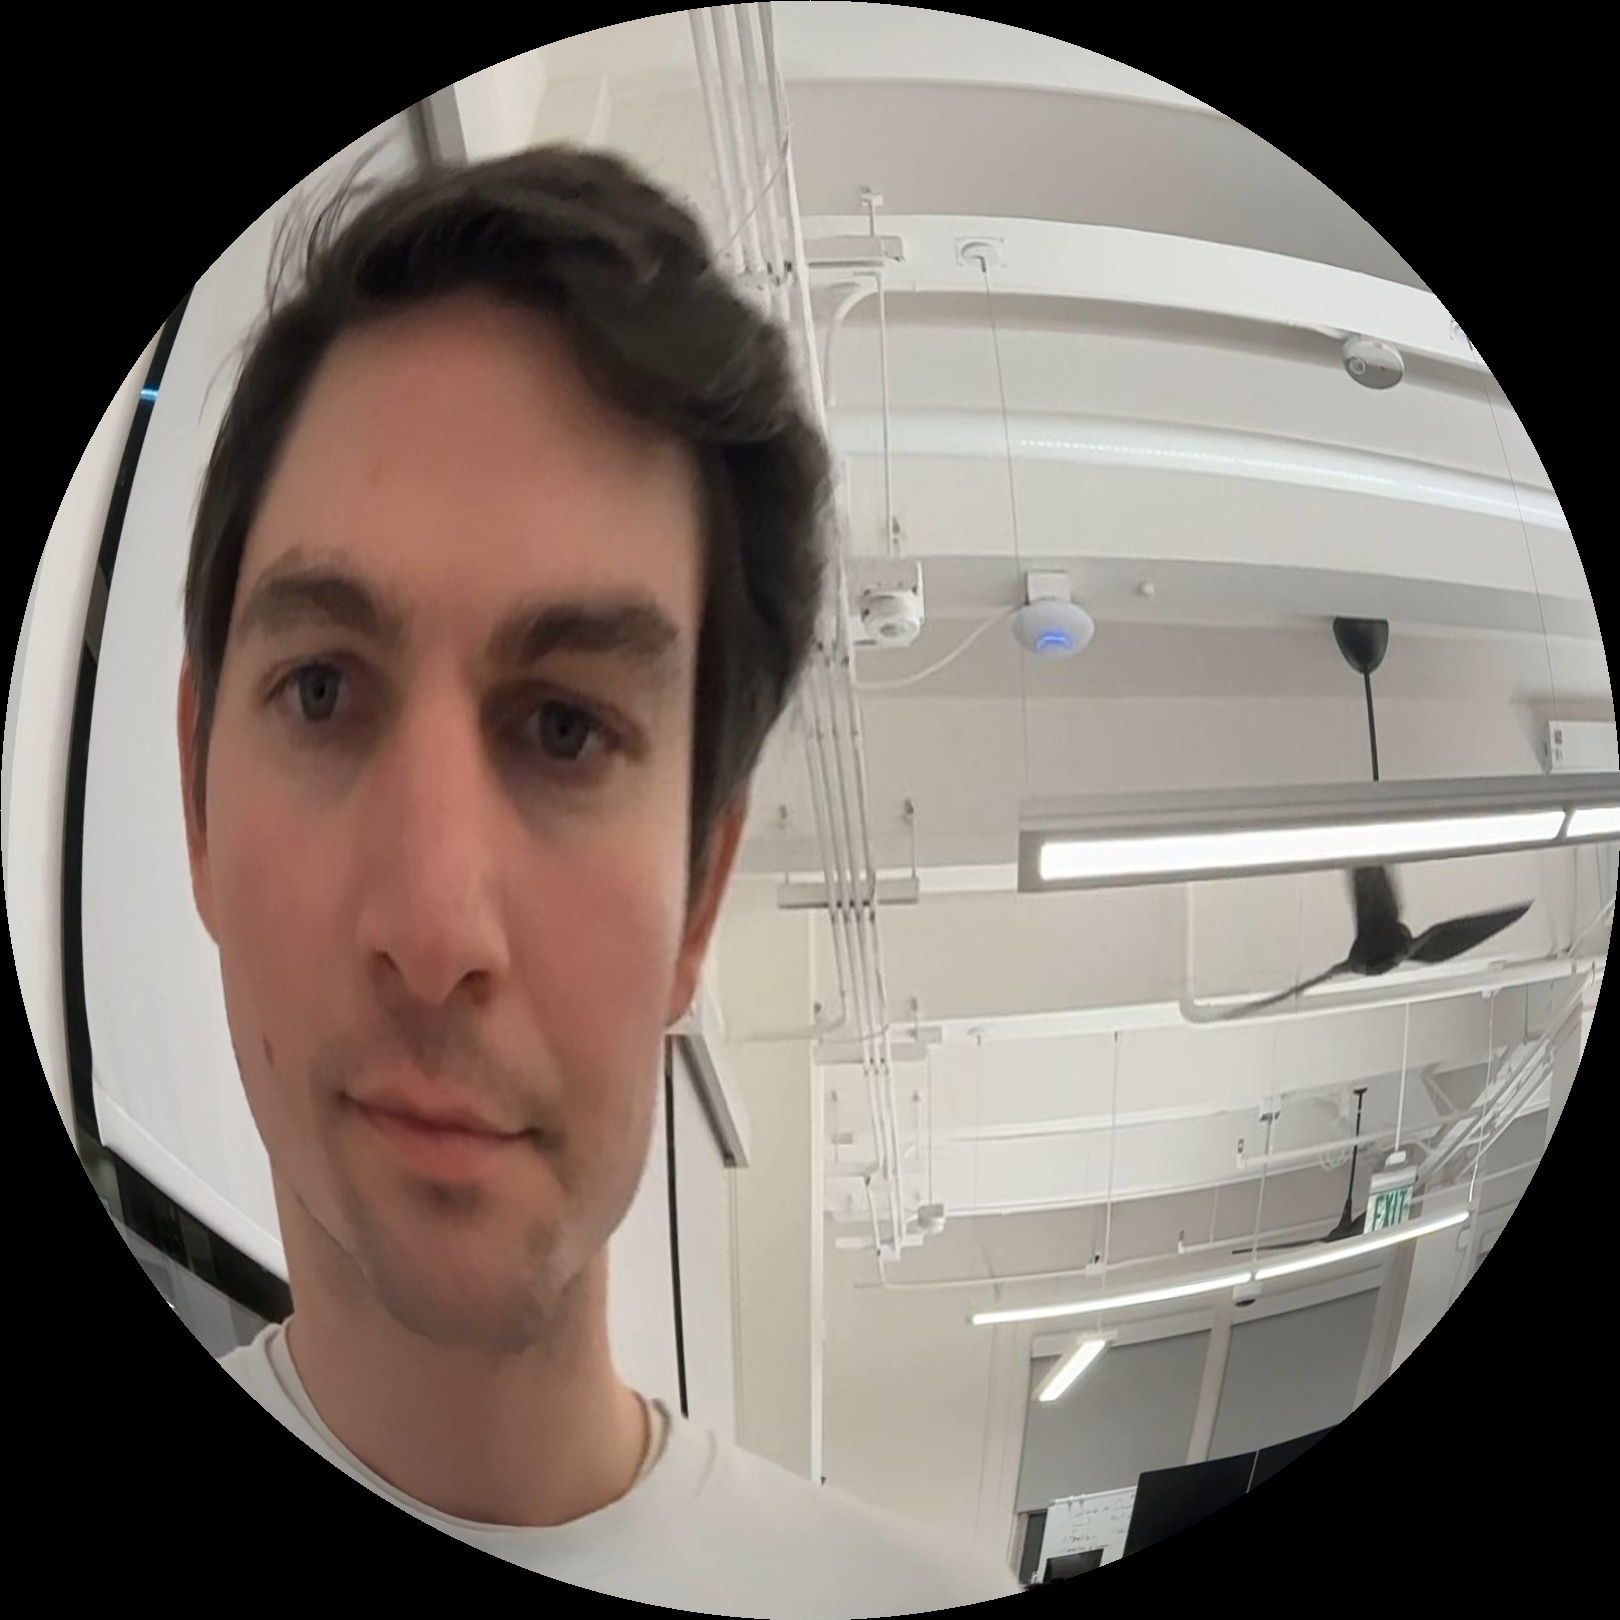face: (162, 106, 818, 1405)
